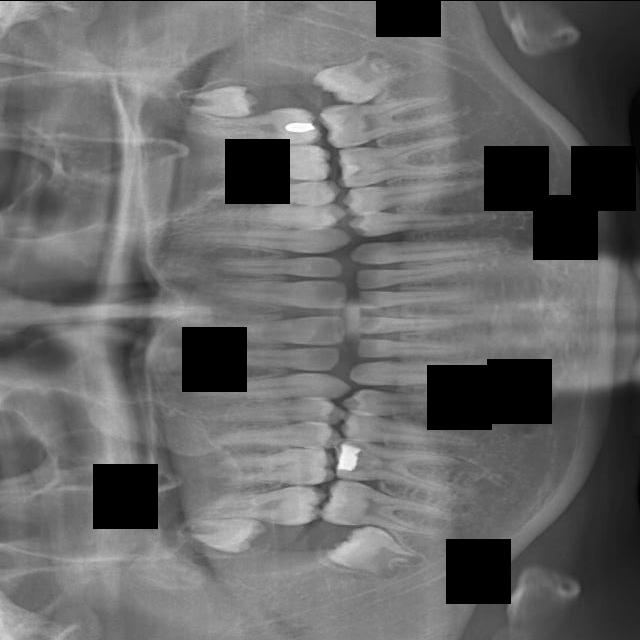3M ESPE Implant: (182, 516, 269, 554)
AGS Medikal Implant: (317, 91, 472, 149)
AMerOss Implant: (331, 131, 482, 189)
Amalgam filling: (190, 486, 327, 526)
Anthogyr Implant: (339, 165, 495, 217)
Bicon Implant: (347, 211, 498, 237)
BioHorizons Implant: (347, 233, 514, 266)
BioLife Implant: (354, 260, 481, 289)
Biomet 3i Implant: (353, 288, 480, 308)
Blue Sky Bio Implant: (355, 315, 476, 334)
Camlog Implant: (353, 337, 476, 362)
Caries: (204, 253, 345, 278)
Composite filling: (347, 359, 492, 385)
Cowellmedi Implant: (340, 385, 489, 425)
Crown: (337, 408, 483, 463)
DENTSPLY Implant: (212, 447, 330, 487)
Dentatus Implant: (326, 435, 466, 496)
Dentis Implant: (317, 475, 463, 547)
Dentium Implant: (320, 513, 430, 590)
Euroteknika Implant: (204, 423, 341, 448)
Filling: (202, 395, 343, 424)
Frontier Implant: (175, 369, 352, 400)
Hiossen Implant: (171, 226, 352, 256)
Implant: (183, 314, 348, 344)
Implant Direct: (193, 346, 340, 371)
Keystone Dental Implant: (189, 271, 350, 310)
MIS Implant: (207, 201, 348, 234)
Mandible: (201, 176, 341, 210)
Maxilla: (197, 143, 332, 184)
Megagen Implant: (209, 123, 233, 131)
Neodent Implant: (174, 83, 260, 120)
Neoss Implant: (308, 36, 421, 119)
